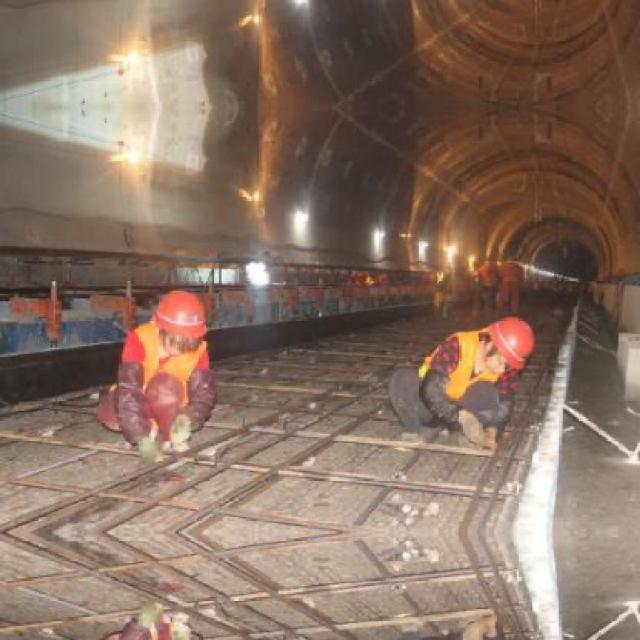con casco: (123, 264, 224, 375), (450, 306, 557, 387)
